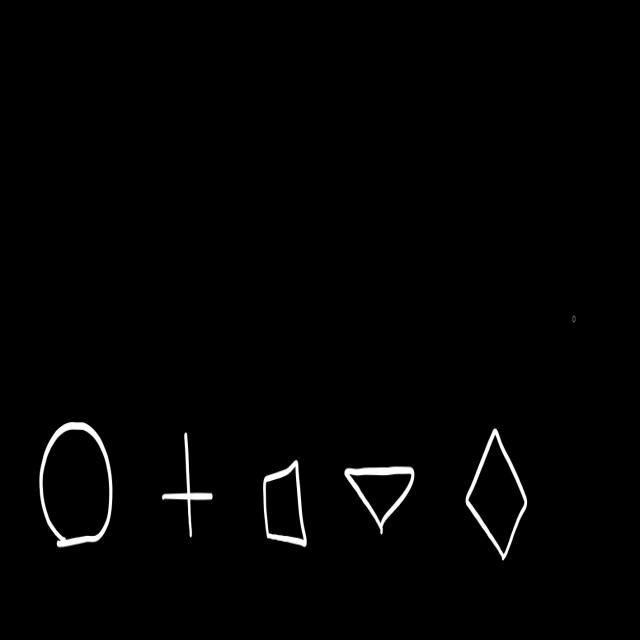circle: (39, 422, 113, 547)
cross: (162, 433, 212, 537)
diamond: (466, 429, 527, 561)
rectangle: (264, 461, 307, 547)
triangle: (344, 467, 414, 535)
